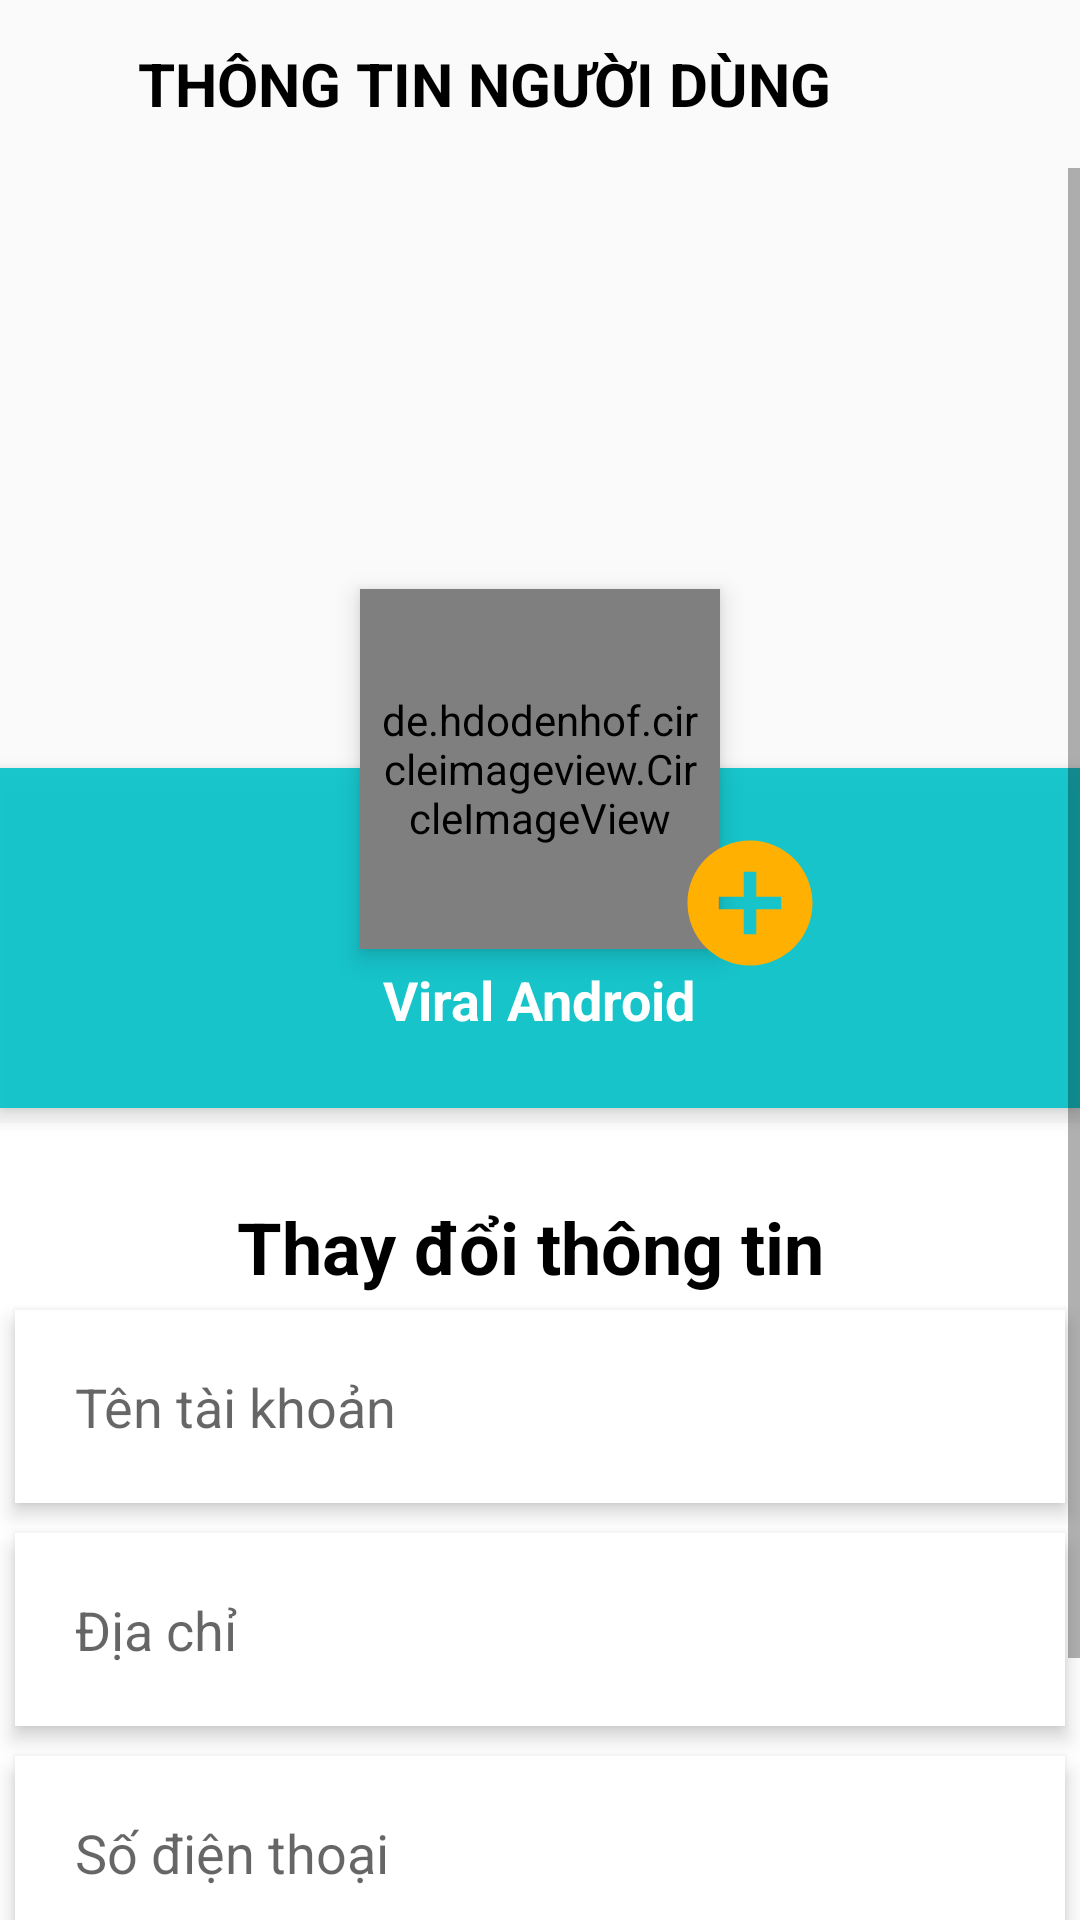

Screen size 1080px×1920px. Icon name, then its center in pixels as (x=x, y=y):
add circle: (x=744, y=897)
